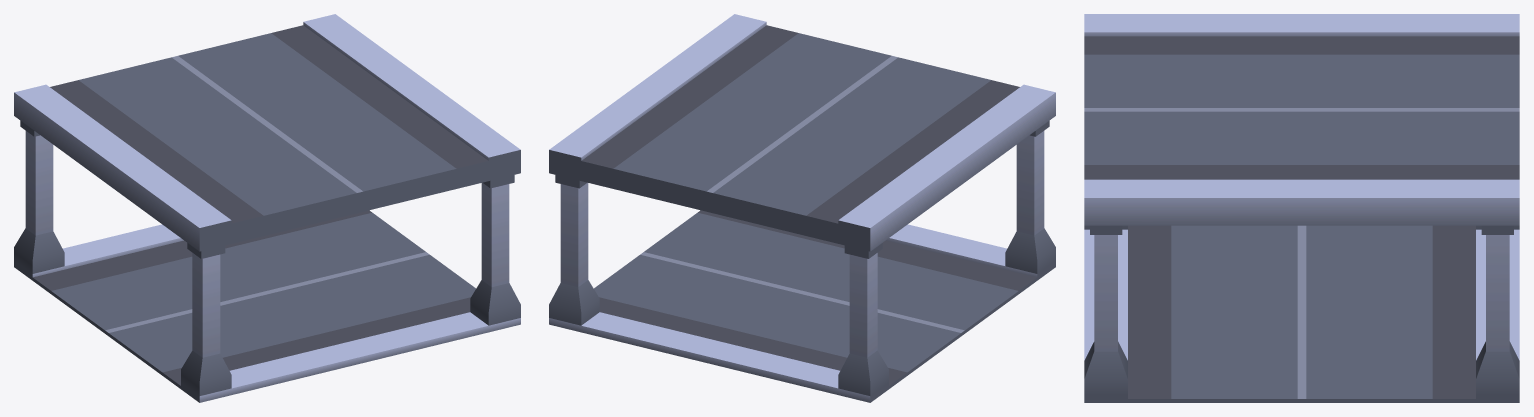
Rendered from road-bridge.glb.
The picture shows the model from 3 angles, left to right: view 1: azimuth 30°, elevation 25°; view 2: azimuth 150°, elevation 25°; view 3: azimuth 270°, elevation 25°; orthographic projection. The views are drawn at different scales.
Parts seen in each view (by area): view 1: road-bridge; view 2: road-bridge; view 3: road-bridge.
Boxes of the visible parts, left/top/right/bottom form: road-bridge: left=14, top=14, right=520, bottom=402; road-bridge: left=549, top=14, right=1055, bottom=402; road-bridge: left=1084, top=14, right=1519, bottom=402.
Size of the model in its own units: 1 by 0.52 by 1.
1 material, 1 textured.
